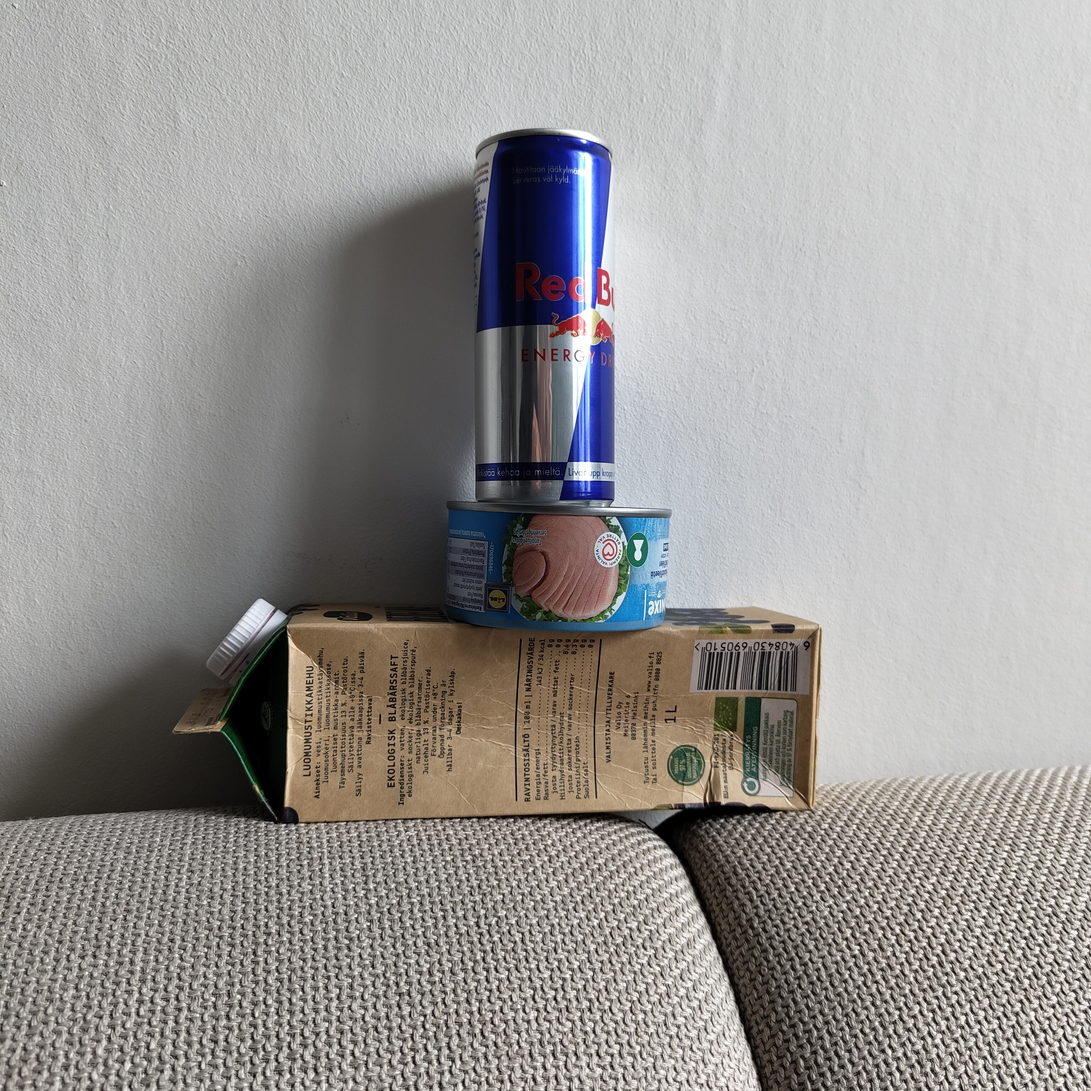Dryckeskartong: (172, 603, 822, 824)
Konservburk: (445, 501, 672, 632)
Pantburk: (473, 128, 616, 507)
